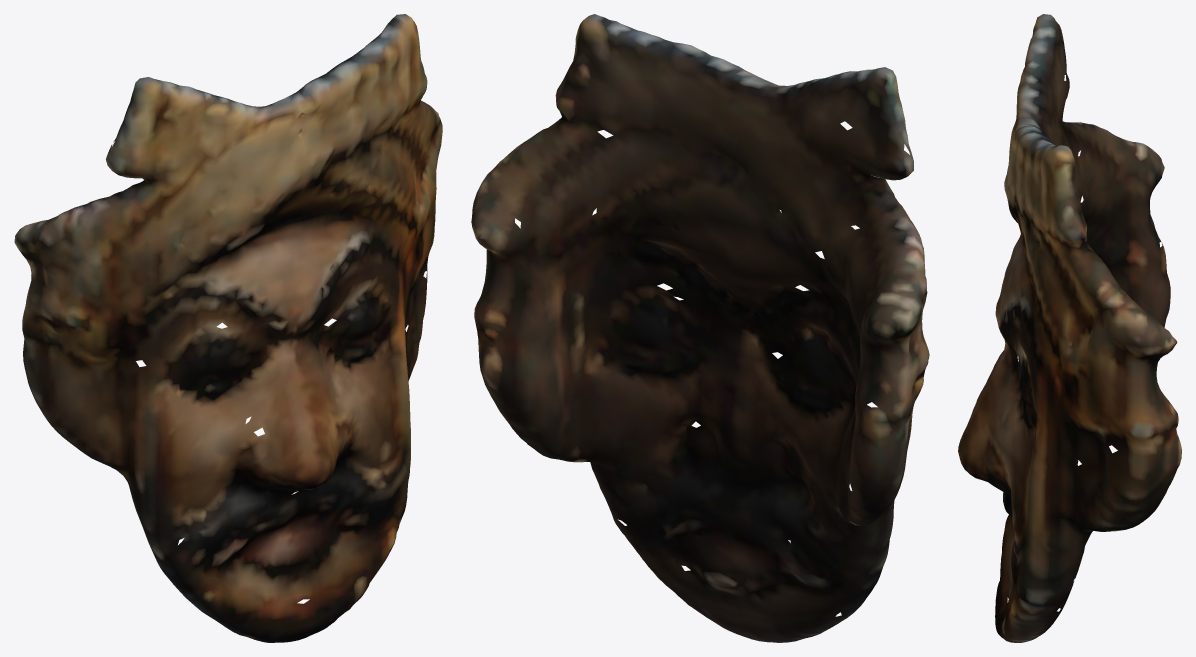
The model's file is mudali-the-nobleman.glb.
3 renders of one model, left to right at view 1: azimuth 30°, elevation 25°; view 2: azimuth 150°, elevation 25°; view 3: azimuth 270°, elevation 25°, orthographic. The views are drawn at different scales.
Parts seen in each view (by area): view 1: geometry_0; view 2: geometry_0; view 3: geometry_0.
Part boxes in pixels (box(x1,y1,x2,y2)): geometry_0: box(14, 14, 442, 642); geometry_0: box(471, 14, 929, 642); geometry_0: box(958, 14, 1181, 642).
Bounding box in the file's own units: 0.7539 × 1 × 0.3645.
